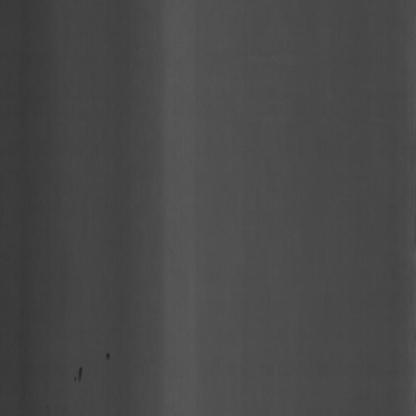oil_spot: (69, 343, 121, 397)
